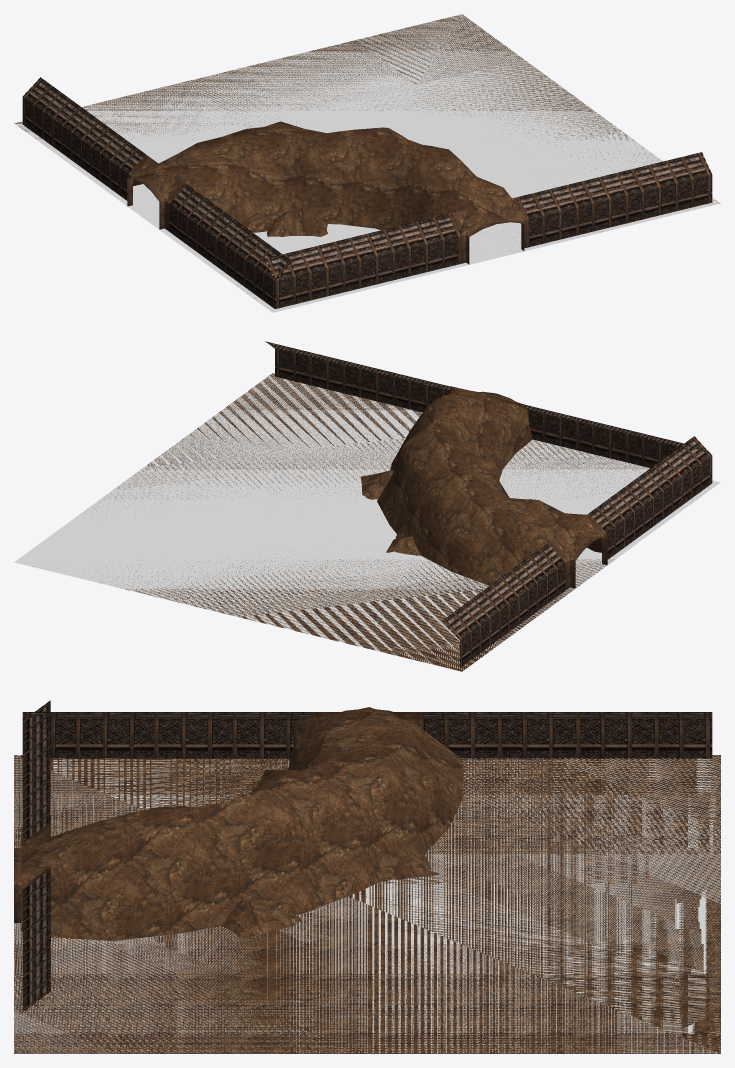
The model's file is lvl7_mesh.gltf.
The picture shows the model from 3 angles, top to bottom: view 1: azimuth 30°, elevation 25°; view 2: azimuth 150°, elevation 25°; view 3: azimuth 270°, elevation 25°; orthographic projection. The views are drawn at different scales.
Visible parts, largest first — view 1: ground_coll-colonly.003, ceiling-col.003, walls.002-col.004, ground.008, walls-col.003, ground_prop.008; view 2: ground_coll-colonly.003, ground.008, ceiling-col.003, walls-col.003, walls.002-col.004, ground_prop.008; view 3: ground.008, ground_coll-colonly.003, ceiling-col.003, walls-col.003, walls.002-col.004, ground_prop.008.
Boxes of the visible parts, <box> form: ground_coll-colonly.003: <box>14,14,720,312</box>; ceiling-col.003: <box>133,121,534,265</box>; walls.002-col.004: <box>265,152,712,308</box>; ground.008: <box>14,14,719,293</box>; walls-col.003: <box>22,77,292,308</box>; ground_prop.008: <box>242,208,328,236</box>; ground_coll-colonly.003: <box>14,373,720,670</box>; ground.008: <box>84,373,700,671</box>; ceiling-col.003: <box>377,386,603,585</box>; walls-col.003: <box>442,436,712,667</box>; walls.002-col.004: <box>265,341,711,467</box>; ground_prop.008: <box>360,470,535,555</box>; ground.008: <box>14,755,720,1053</box>; ground_coll-colonly.003: <box>14,755,720,1053</box>; ceiling-col.003: <box>21,707,463,941</box>; walls-col.003: <box>22,709,712,758</box>; walls.002-col.004: <box>14,700,50,1011</box>; ground_prop.008: <box>221,849,439,938</box>.
Bounding box in the file's own units: 41 × 6.54 × 41.
3 materials, 3 textured.
